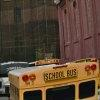Bus: (5, 59, 96, 100)
